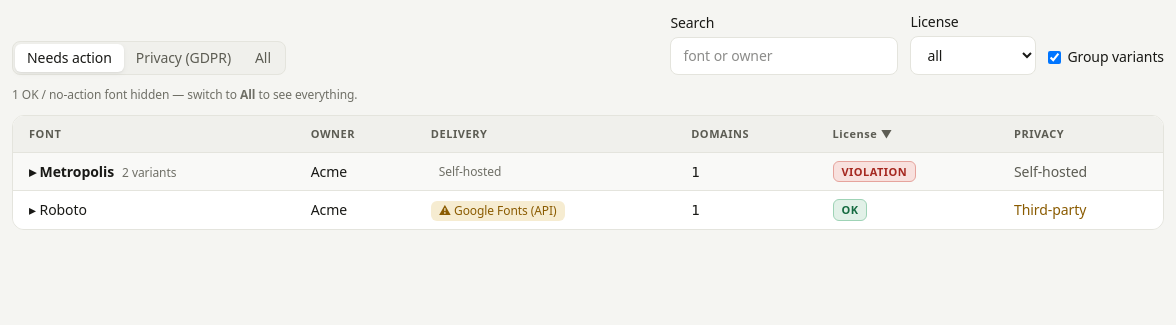
Test: FindingsTable › folds family variants into one expandable group row
expect the text "2 variants" is shown: met, box top-left (122, 164), bottom-right (176, 180)
expect the text "metropolis-bold" is not shown: met
Click the button "▸ Metropolis2 variants": (103, 172) top-left (29, 162), bottom-right (176, 182)
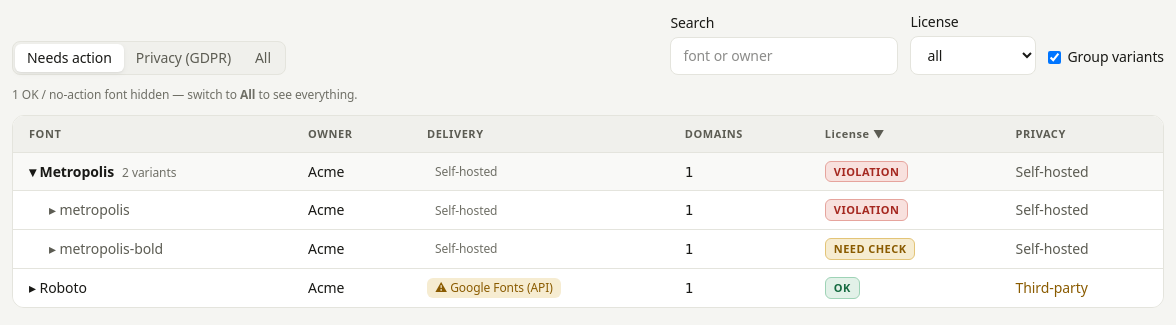
expect the button "▸ metropolis-bold" is shown: met, box top-left (49, 239), bottom-right (163, 259)
